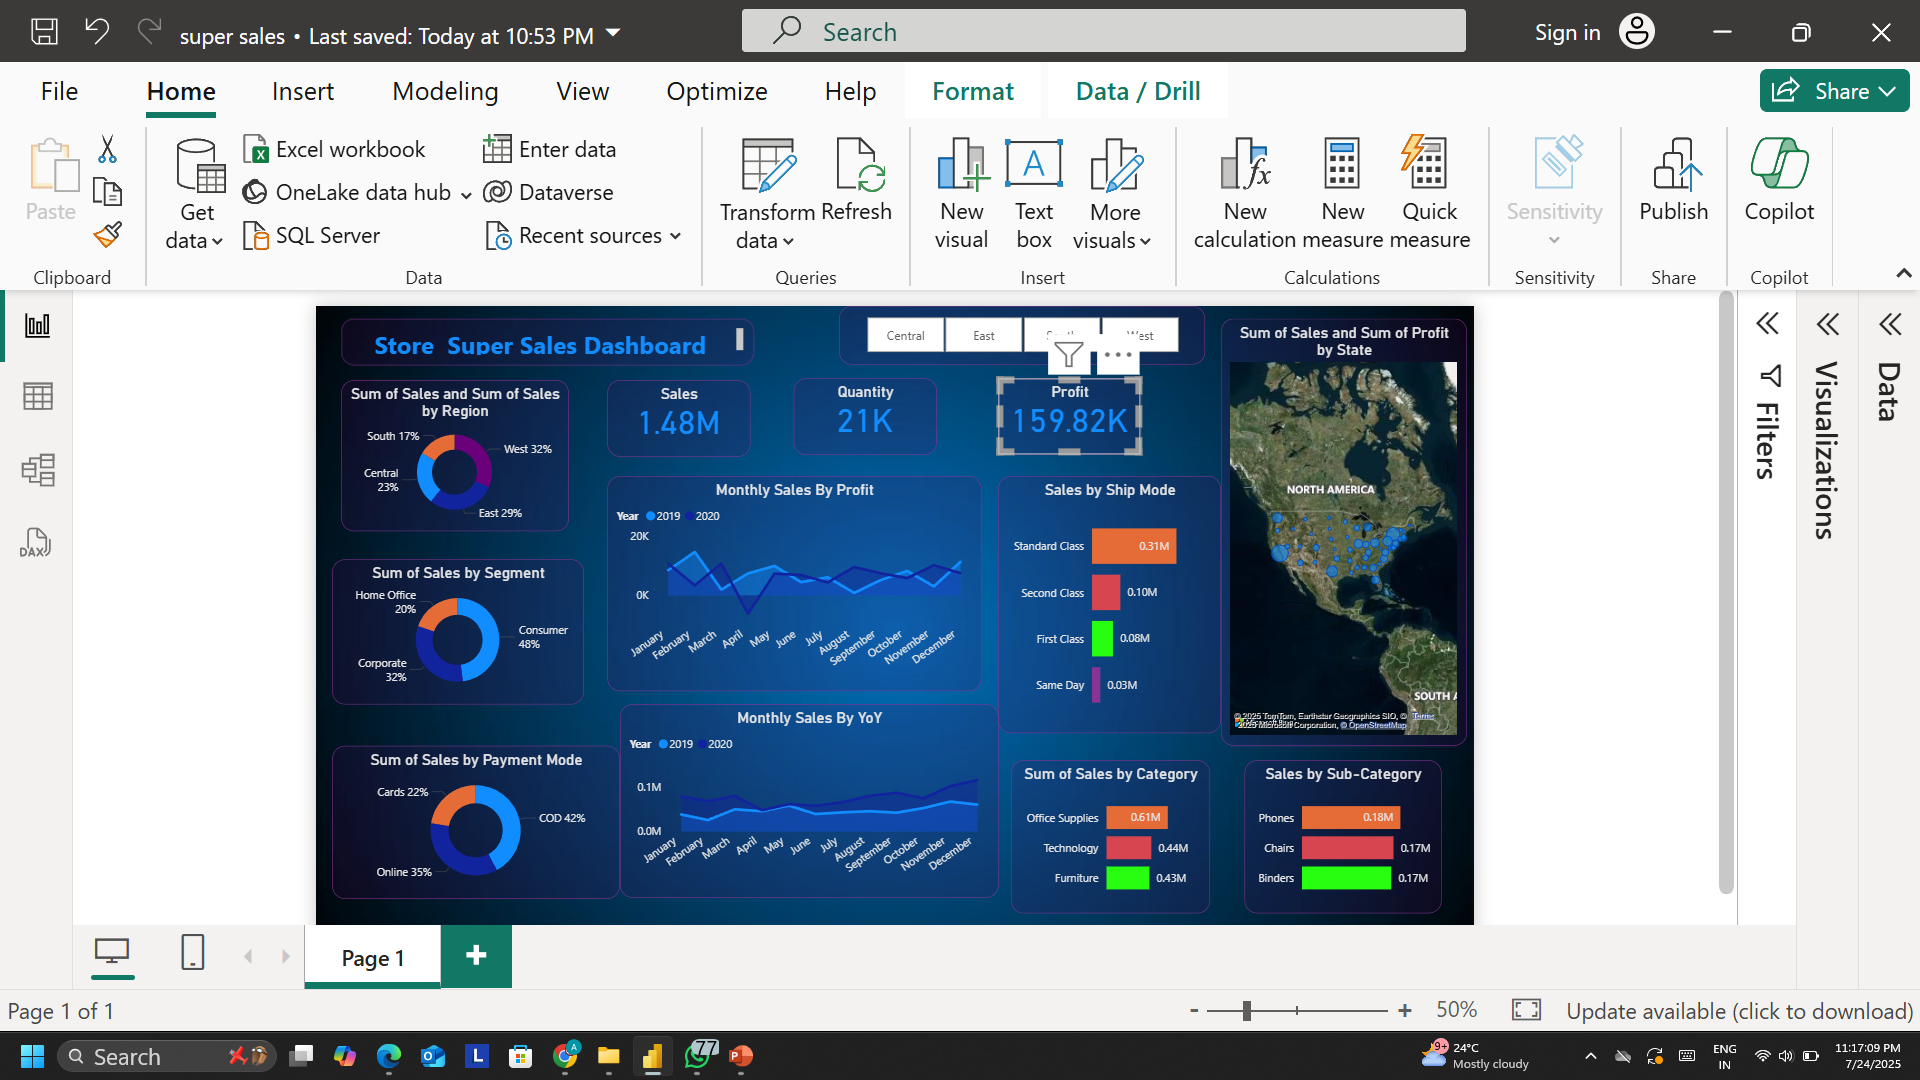

The dashboard page shown, as its layout file describes it:
{"tool":"powerbi","page":{"name":"Page 1","canvas":[1280,720],"ordinal":0},"visuals":[{"type":"clusteredBarChart","fields":{"Category":["SuperStore_Sales_Dataset.Category"],"Y":["Sum(SuperStore_Sales_Dataset.Sales)"]},"box":[768.9,502.2,220,168.9],"z":0},{"type":"clusteredBarChart","title":"  Sales by Sub-Category","fields":{"Category":["SuperStore_Sales_Dataset.Sub-Category"],"Y":["Sum(SuperStore_Sales_Dataset.Sales)"]},"box":[1026.7,502.2,217.8,168.9],"z":1000},{"type":"clusteredBarChart","title":"  Sales by Ship Mode","fields":{"Category":["SuperStore_Sales_Dataset.Ship Mode"],"Y":["Sum(SuperStore_Sales_Dataset.Sales)"]},"box":[754,188,246,284],"z":2000},{"type":"areaChart","title":"Monthly Sales By YoY","fields":{"Y":["Sum(SuperStore_Sales_Dataset.Sales)"],"Category":["SuperStore_Sales_Dataset.Order Date.Variation.Date Hierarchy.Month","SuperStore_Sales_Dataset.Order Date.Variation.Date Hierarchy.Day"],"Series":["SuperStore_Sales_Dataset.Order Date.Variation.Date Hierarchy.Year"]},"box":[336,440,418,214],"z":3000},{"type":"areaChart","title":"Monthly Sales By Profit","fields":{"Y":["Sum(SuperStore_Sales_Dataset.Profit)"],"Category":["SuperStore_Sales_Dataset.Order Date.Variation.Date Hierarchy.Month","SuperStore_Sales_Dataset.Order Date.Variation.Date Hierarchy.Day"],"Series":["SuperStore_Sales_Dataset.Order Date.Variation.Date Hierarchy.Year"]},"box":[322.2,188.9,413.3,237.8],"z":4000},{"type":"map","fields":{"Category":["SuperStore_Sales_Dataset.State"],"Size":["Sum(SuperStore_Sales_Dataset.Sales)"]},"box":[1000,14,272,472],"z":5000},{"type":"donutChart","fields":{"Category":["SuperStore_Sales_Dataset.Segment"],"Y":["Sum(SuperStore_Sales_Dataset.Sales)"]},"box":[17.8,280,277.8,160],"z":6000},{"type":"donutChart","fields":{"Category":["SuperStore_Sales_Dataset.Payment Mode"],"Y":["Sum(SuperStore_Sales_Dataset.Sales)"]},"box":[17.8,486.7,317.8,168.9],"z":7000},{"type":"slicer","fields":{"Values":["SuperStore_Sales_Dataset.Region"]},"box":[577.8,0,404.4,64.4],"z":8000},{"type":"textbox","box":[28.9,13.3,455.6,51.1],"z":9000},{"type":"donutChart","fields":{"Category":["SuperStore_Sales_Dataset.Region"],"Y":["Sum(SuperStore_Sales_Dataset.Sales)","Sum(SuperStore_Sales_Dataset.Sales)"]},"box":[28.9,82.2,251.1,166.7],"z":10000},{"type":"card","title":"Sales","fields":{"Values":["Sum(SuperStore_Sales_Dataset.Sales)"]},"box":[322.2,82.2,157.8,84.4],"z":11000},{"type":"card","title":"Quantity","fields":{"Values":["Sum(SuperStore_Sales_Dataset.Quantity)"]},"box":[528.9,80,157.8,84.4],"z":12000},{"type":"card","title":"Profit","fields":{"Values":["Sum(SuperStore_Sales_Dataset.Profit)"]},"box":[753.3,80,157.8,84.4],"z":13000}]}

Visuals, with their boxes on the page's 1280x720 design canvas (x1, y1, x2, y2). These are canvas units, not pixel positions in the 1920x1080 screenshot, which may show the page scaled, cropped or inside an application window:
clusteredBarChart - SuperStore_Sales_Dataset.Category x Sum(SuperStore_Sales_Dataset.Sales): [left=769, top=502, right=989, bottom=671]
"  Sales by Sub-Category" clusteredBarChart: [left=1027, top=502, right=1244, bottom=671]
"  Sales by Ship Mode" clusteredBarChart: [left=754, top=188, right=1000, bottom=472]
"Monthly Sales By YoY" areaChart: [left=336, top=440, right=754, bottom=654]
"Monthly Sales By Profit" areaChart: [left=322, top=189, right=736, bottom=427]
map - SuperStore_Sales_Dataset.State x Sum(SuperStore_Sales_Dataset.Sales): [left=1000, top=14, right=1272, bottom=486]
donutChart - SuperStore_Sales_Dataset.Segment x Sum(SuperStore_Sales_Dataset.Sales): [left=18, top=280, right=296, bottom=440]
donutChart - SuperStore_Sales_Dataset.Payment Mode x Sum(SuperStore_Sales_Dataset.Sales): [left=18, top=487, right=336, bottom=656]
slicer - SuperStore_Sales_Dataset.Region: [left=578, top=0, right=982, bottom=64]
textbox: [left=29, top=13, right=484, bottom=64]
donutChart - SuperStore_Sales_Dataset.Region x Sum(SuperStore_Sales_Dataset.Sales): [left=29, top=82, right=280, bottom=249]
"Sales" card: [left=322, top=82, right=480, bottom=167]
"Quantity" card: [left=529, top=80, right=687, bottom=164]
"Profit" card: [left=753, top=80, right=911, bottom=164]
